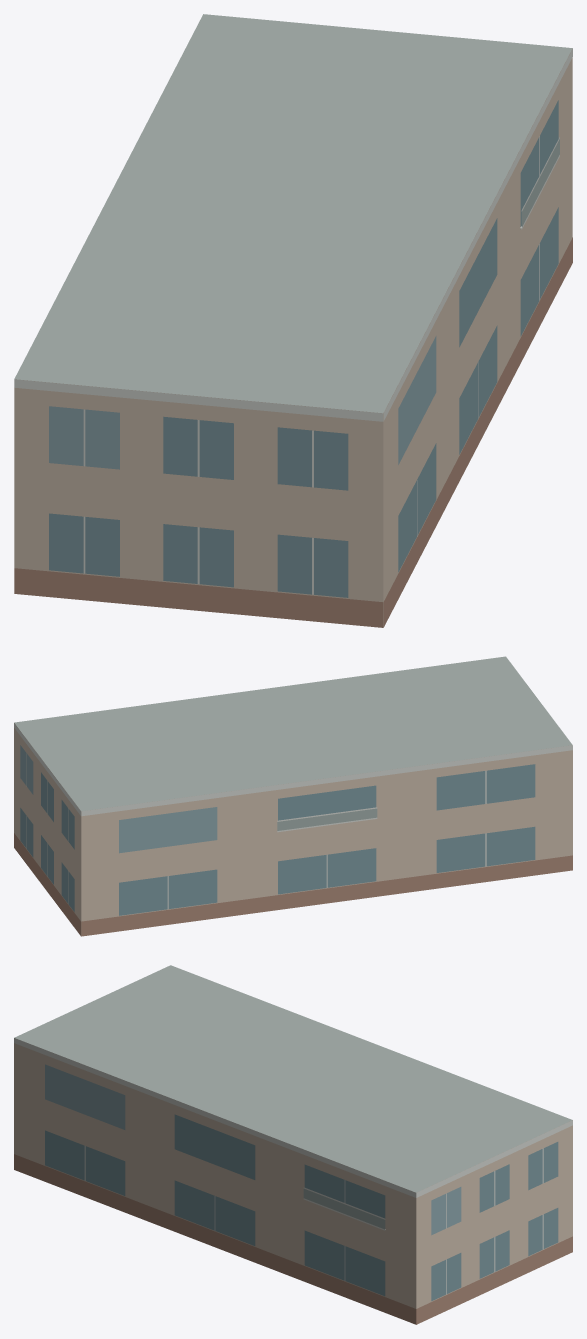
File: residential-6af93faa-c0d9-499f-8f6f-a0fb76a5ef07.glb
3 views of the same model, one above another, from view 1: azimuth 30°, elevation 25°; view 2: azimuth 150°, elevation 25°; view 3: azimuth 270°, elevation 25° (orthographic). The views are drawn at different scales.
Visible parts, largest first — view 1: residential-6af93faa-c0d9-499f-8f6f-a0fb76a5ef07.tmp; view 2: residential-6af93faa-c0d9-499f-8f6f-a0fb76a5ef07.tmp; view 3: residential-6af93faa-c0d9-499f-8f6f-a0fb76a5ef07.tmp.
Boxes of the visible parts, left/top/right/bottom form: residential-6af93faa-c0d9-499f-8f6f-a0fb76a5ef07.tmp: left=14, top=14, right=572, bottom=627; residential-6af93faa-c0d9-499f-8f6f-a0fb76a5ef07.tmp: left=14, top=656, right=572, bottom=936; residential-6af93faa-c0d9-499f-8f6f-a0fb76a5ef07.tmp: left=14, top=965, right=572, bottom=1324.
Size of the model in its own units: 22.57 by 6.1 by 23.41.
